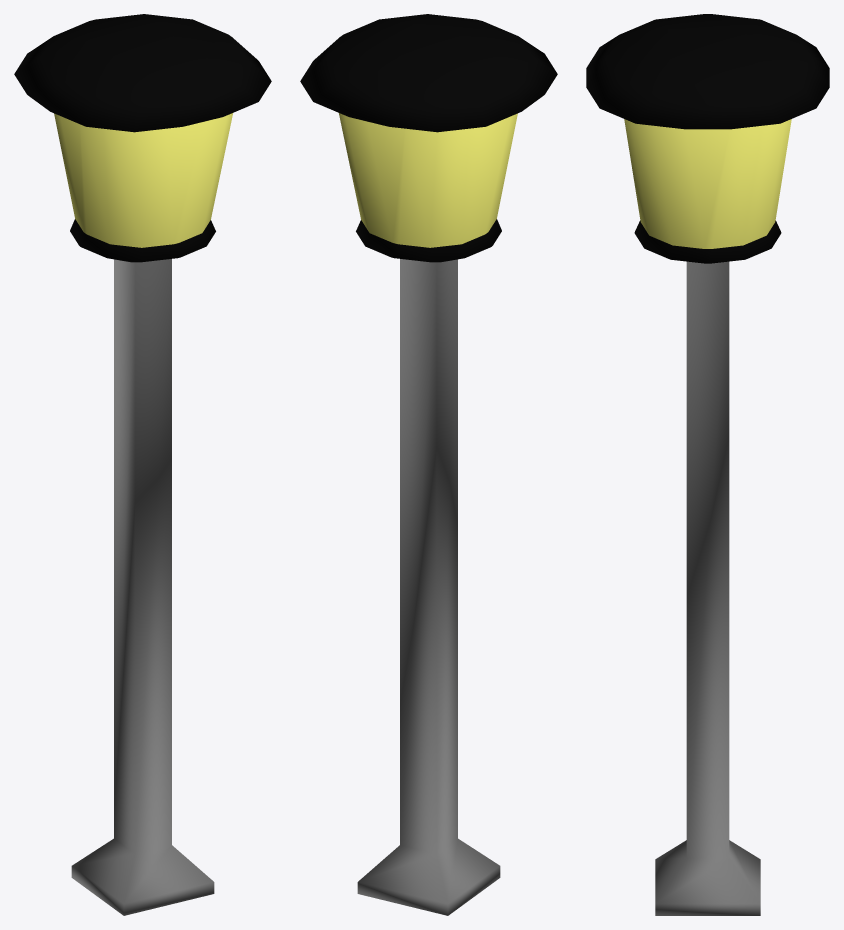
Rendered from Latern.fbx.
3 renders of one model, left to right at view 1: azimuth 30°, elevation 25°; view 2: azimuth 150°, elevation 25°; view 3: azimuth 270°, elevation 25°, orthographic.
Parts seen in each view (by area): view 1: Plane.003; view 2: Plane.003; view 3: Plane.003.
Boxes of the visible parts, x1,y1,x2,y2 form: Plane.003: (14, 14, 271, 915); Plane.003: (300, 14, 557, 915); Plane.003: (586, 14, 829, 915).
Size of the model in its own units: 322 by 322 by 1239.
